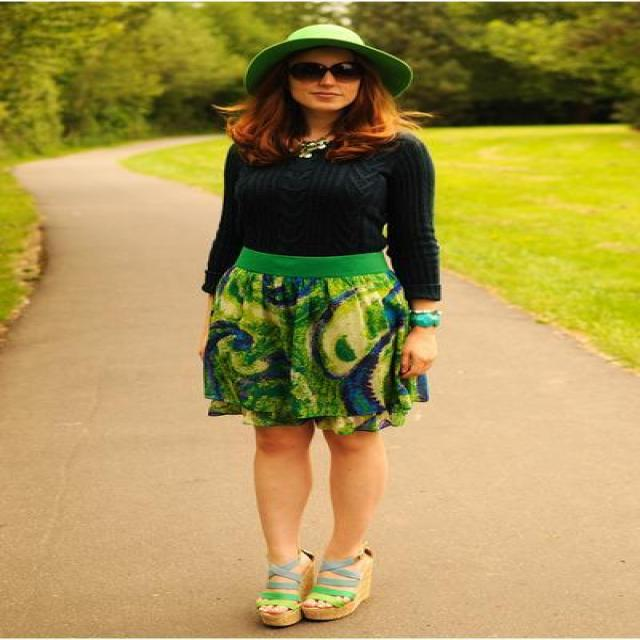hat: (252, 38, 386, 78)
jacket: (202, 135, 438, 303)
shoe: (267, 556, 354, 589)
skirt: (203, 246, 440, 437)
